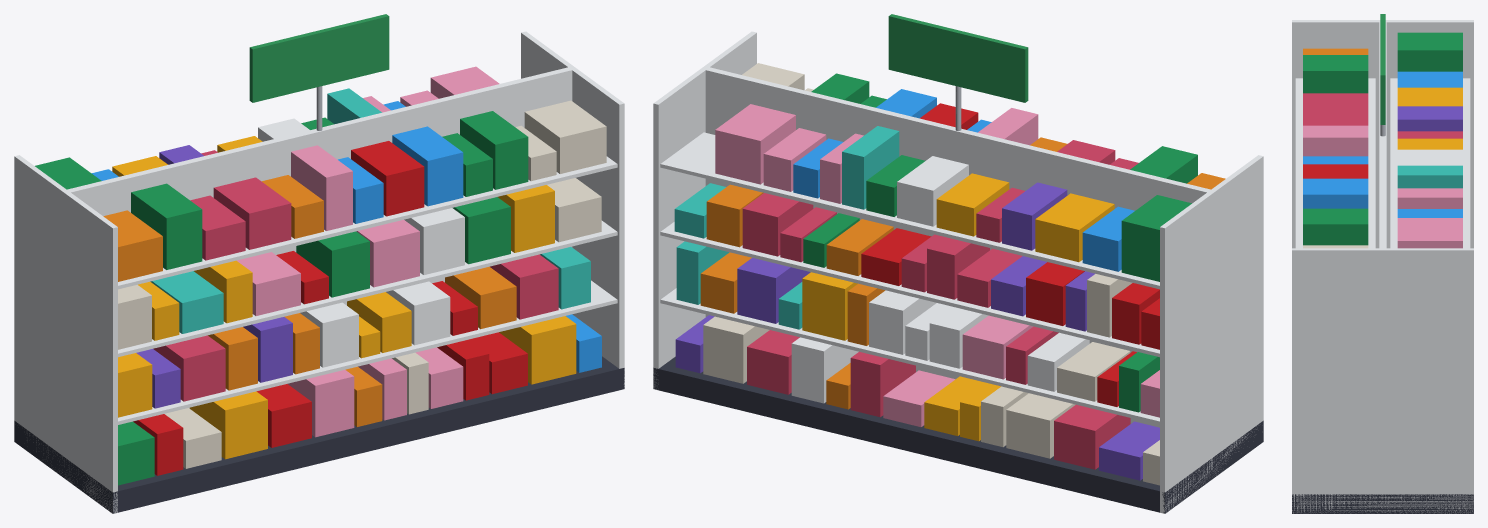
Rendered from mal-014.glb.
3 renders of one model, left to right at view 1: azimuth 30°, elevation 25°; view 2: azimuth 150°, elevation 25°; view 3: azimuth 270°, elevation 25°, orthographic. The views are drawn at different scales.
Parts seen in each view (by area): view 1: white, accent_amber, safety_green, chart_lanthanide, dark_steel, accent_red, paper, fruit_orange, brand_fashion, brand_grocery, plastic_blue, accent_teal (+1 smaller); view 2: white, brand_fashion, dark_steel, chart_lanthanide, paper, brand_home, accent_amber, safety_green, fruit_orange, accent_red, brand_grocery, accent_teal (+1 smaller); view 3: white, safety_green, chart_lanthanide, plastic_blue, dark_steel, brand_fashion, accent_amber, brand_home, accent_teal, accent_red, brand_grocery, fruit_orange (+1 smaller).
Boxes of the visible parts, x1=… form: white: x1=14, y1=31, x2=624, y2=513; accent_amber: x1=112, y1=136, x2=576, y2=459; safety_green: x1=35, y1=111, x2=528, y2=485; chart_lanthanide: x1=236, y1=66, x2=499, y2=437; dark_steel: x1=14, y1=356, x2=624, y2=513; accent_red: x1=133, y1=141, x2=527, y2=475; paper: x1=118, y1=100, x2=606, y2=468; fruit_orange: x1=103, y1=175, x2=516, y2=426; brand_fashion: x1=153, y1=150, x2=558, y2=401; brand_grocery: x1=249, y1=14, x2=389, y2=102; plastic_blue: x1=92, y1=101, x2=601, y2=372; accent_teal: x1=150, y1=88, x2=590, y2=333; white: x1=653, y1=31, x2=1263, y2=513; brand_fashion: x1=742, y1=140, x2=1138, y2=469; dark_steel: x1=653, y1=356, x2=1263, y2=513; chart_lanthanide: x1=715, y1=104, x2=1159, y2=426; paper: x1=703, y1=63, x2=1159, y2=485; brand_home: x1=675, y1=182, x2=1159, y2=480; accent_amber: x1=802, y1=173, x2=1114, y2=441; safety_green: x1=803, y1=73, x2=1197, y2=412; fruit_orange: x1=700, y1=137, x2=1225, y2=409; accent_red: x1=861, y1=103, x2=1159, y2=406; brand_grocery: x1=888, y1=14, x2=1028, y2=102; accent_teal: x1=674, y1=126, x2=899, y2=329; white: x1=1292, y1=20, x2=1473, y2=513; safety_green: x1=1303, y1=32, x2=1462, y2=245; chart_lanthanide: x1=1303, y1=125, x2=1462, y2=248; plastic_blue: x1=1303, y1=71, x2=1462, y2=217; dark_steel: x1=1292, y1=494, x2=1473, y2=513; brand_fashion: x1=1303, y1=93, x2=1462, y2=138; accent_amber: x1=1397, y1=87, x2=1462, y2=149; brand_home: x1=1397, y1=106, x2=1462, y2=131; accent_teal: x1=1397, y1=165, x2=1462, y2=188; accent_red: x1=1303, y1=164, x2=1368, y2=178; brand_grocery: x1=1380, y1=14, x2=1385, y2=124; fruit_orange: x1=1303, y1=48, x2=1368, y2=54.
Size of the model in its own units: 3 by 2.15 by 1.
